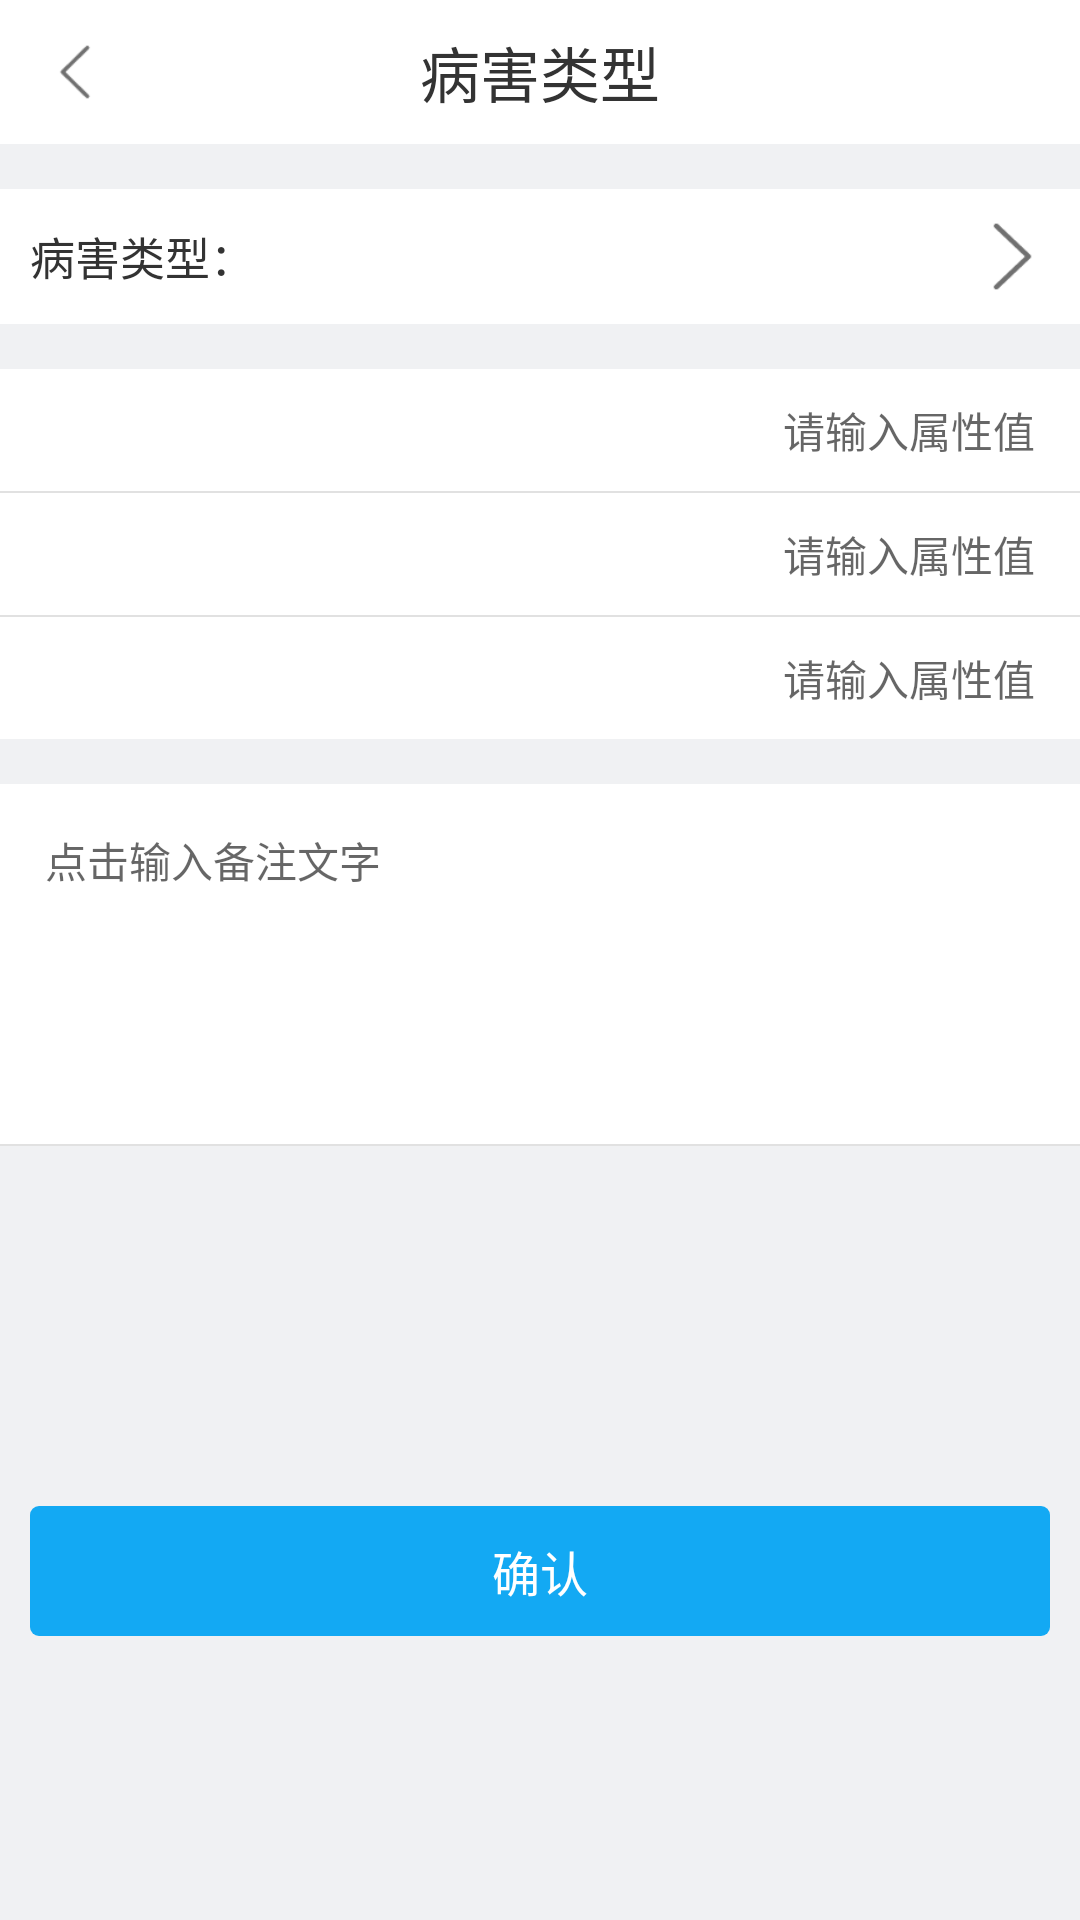

Where icons sit on this 1080 × 1920 app screen, as (x1, y1, x2, y2):
arr right: (993, 223, 1032, 290)
